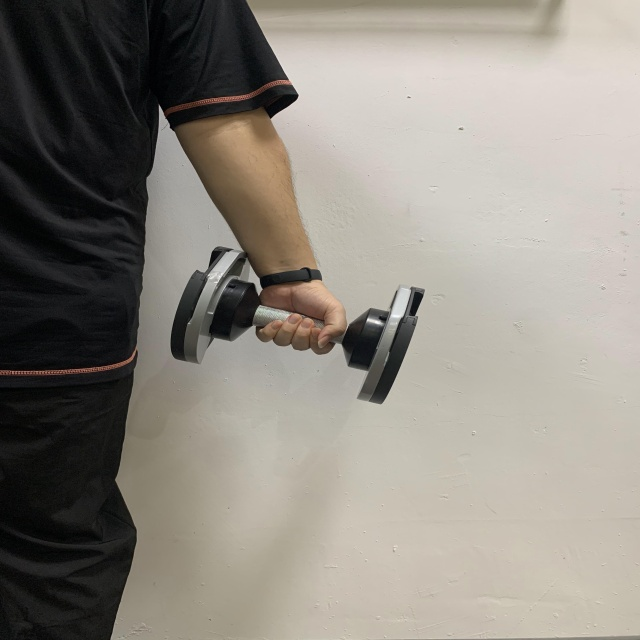02-4kg: (163, 244, 428, 405)
